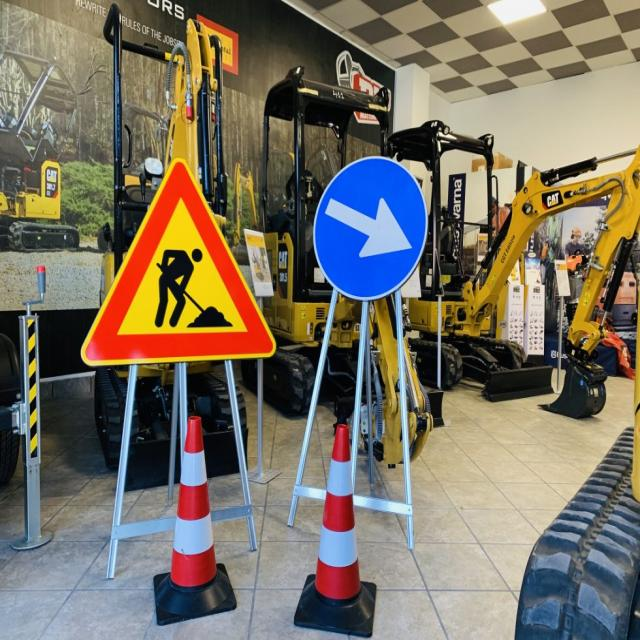Turn Right: (321, 159, 429, 294)
